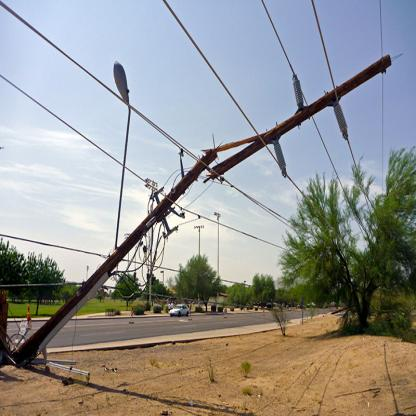Electrical Pole: (1, 12, 405, 382)
